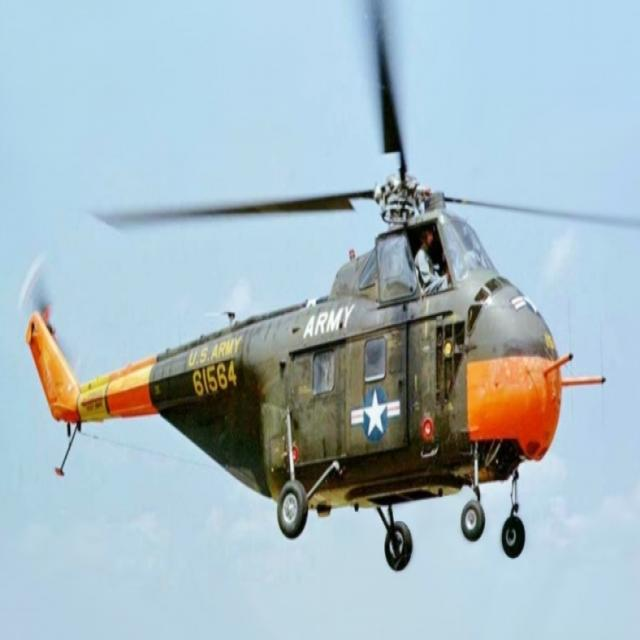helicopter: (1, 1, 605, 581)
